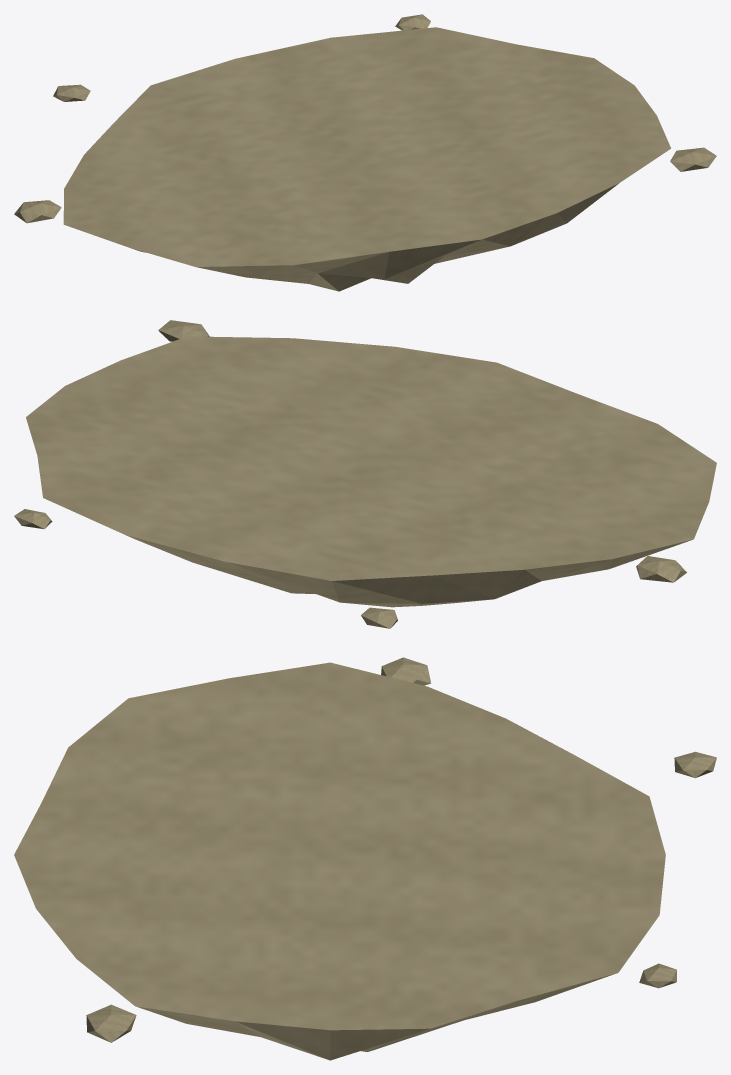
The model's file is AuxAmmoMineralSalts.fbx.
The picture shows the model from 3 angles, top to bottom: view 1: azimuth 30°, elevation 25°; view 2: azimuth 150°, elevation 25°; view 3: azimuth 270°, elevation 25°; orthographic projection. The views are drawn at different scales.
Visible parts, largest first — view 1: AuxAmmoMineralSalts_export; view 2: AuxAmmoMineralSalts_export; view 3: AuxAmmoMineralSalts_export.
Part boxes in pixels (x1=…): AuxAmmoMineralSalts_export: x1=14, y1=14, x2=716, y2=291; AuxAmmoMineralSalts_export: x1=14, y1=320, x2=716, y2=628; AuxAmmoMineralSalts_export: x1=14, y1=657, x2=716, y2=1060.
Size of the model in its own units: 7.35 by 5.78 by 1.38.
